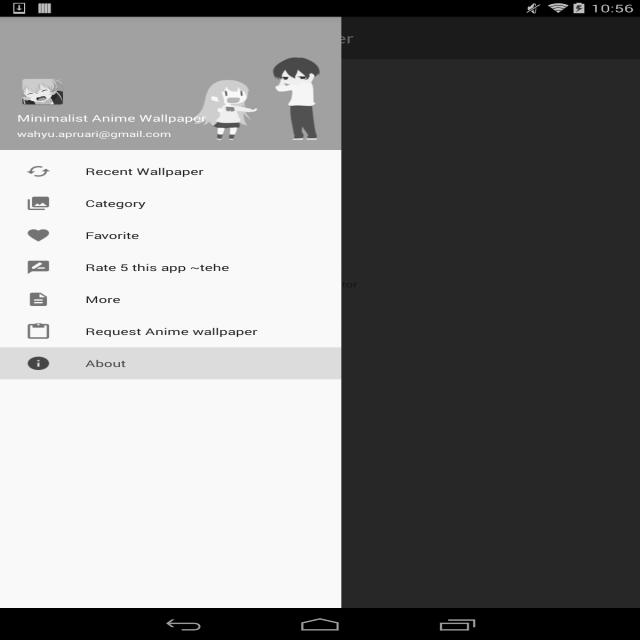CheckedTextView: (26, 156, 316, 188), (26, 188, 316, 220), (26, 220, 316, 252), (26, 252, 316, 284), (26, 284, 316, 316), (26, 316, 316, 348), (26, 348, 316, 380)
ImageButton: (9, 17, 68, 59)
ImageView: (17, 76, 68, 108), (22, 121, 56, 143), (22, 267, 56, 289), (22, 73, 56, 94), (22, 170, 56, 191), (22, 219, 56, 240), (22, 316, 56, 337)
TextView: (17, 124, 324, 140), (85, 29, 354, 47), (17, 112, 324, 124), (66, 278, 358, 290), (66, 266, 326, 279), (66, 328, 328, 338), (66, 84, 228, 95), (66, 71, 186, 84), (66, 182, 220, 192), (66, 230, 186, 241), (66, 120, 156, 133), (66, 315, 161, 327), (66, 132, 141, 144), (66, 217, 134, 230), (66, 169, 104, 181)
